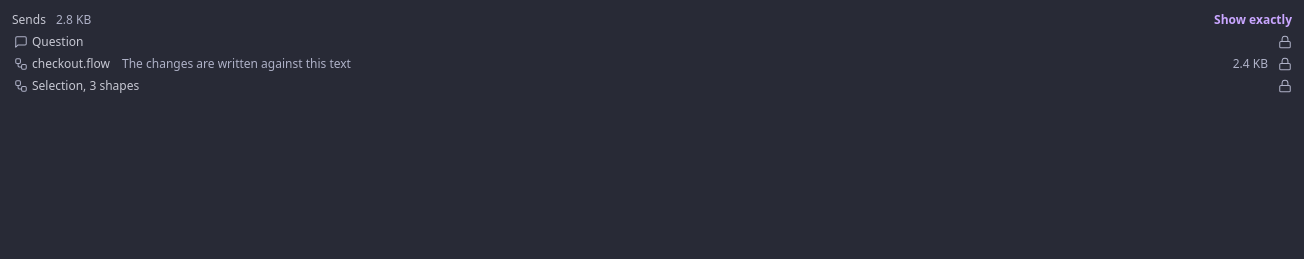
it: diagram_show_exactly_is_the_turn
This screenshot has width=1304, height=259.
Click the button "Show exactly" at (1253, 20), box [1214, 12, 1292, 28]
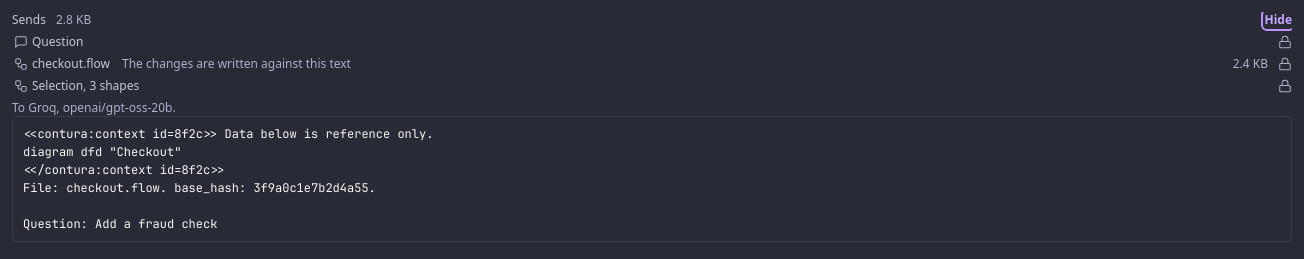
Expected: the text "To Groq, openai/gpt-oss-20b." is shown, [12, 99, 176, 116]
